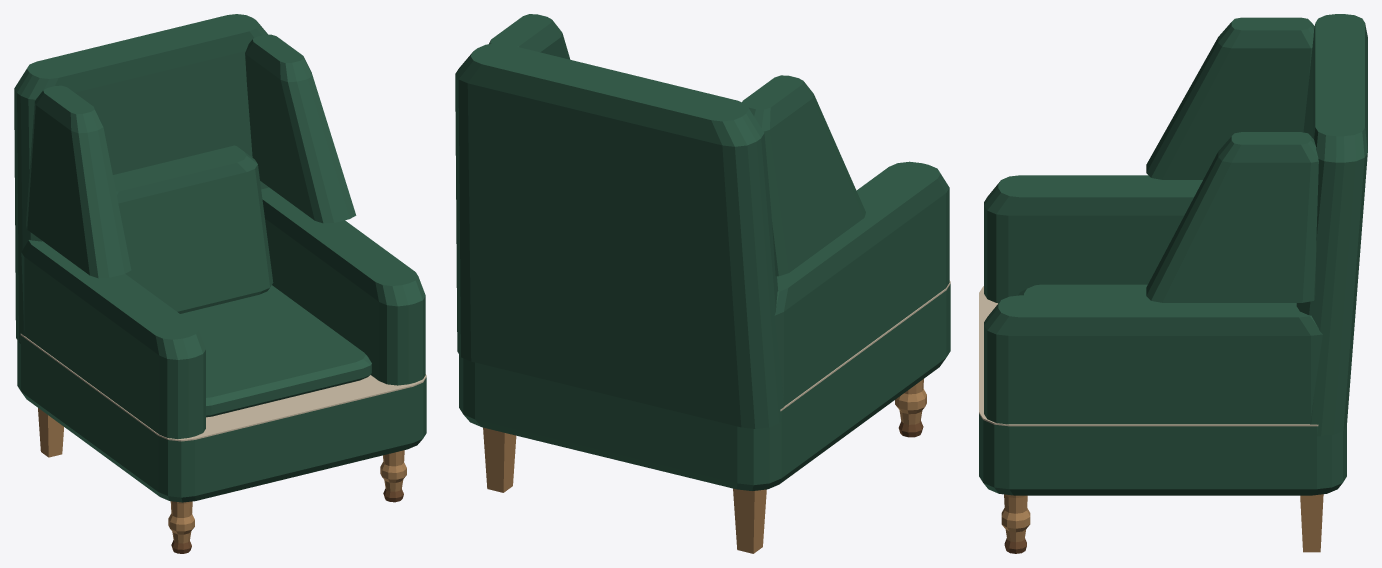
The model's file is FN_Chair_Wingback.glb.
3 views of the same model, side by side, from view 1: azimuth 30°, elevation 25°; view 2: azimuth 150°, elevation 25°; view 3: azimuth 270°, elevation 25° (orthographic). The views are drawn at different scales.
Parts seen in each view (by area): view 1: FN_Chair_Wingback; view 2: FN_Chair_Wingback; view 3: FN_Chair_Wingback.
Part boxes in pixels (x1,y1,x2,y2): FN_Chair_Wingback: (14,14,426,553); FN_Chair_Wingback: (455,14,950,553); FN_Chair_Wingback: (979,14,1367,553).
Bounding box in the file's own units: 0.82 × 1.1 × 0.93.
Materials: 1 (1 with a texture image).
